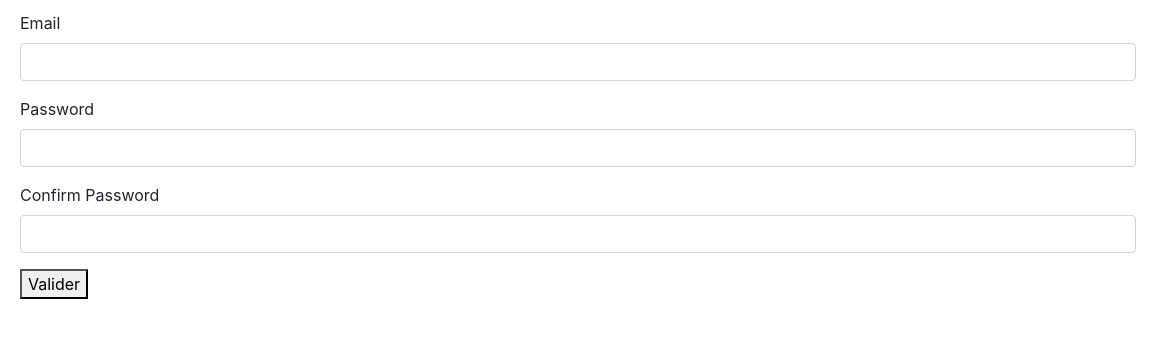
La saisie du mail est-elle valide
Expected: the text "email invalid" is not shown
Type "test.gmail.com" into the field labelled "Email" at [578, 62], box [20,43,1136,81]
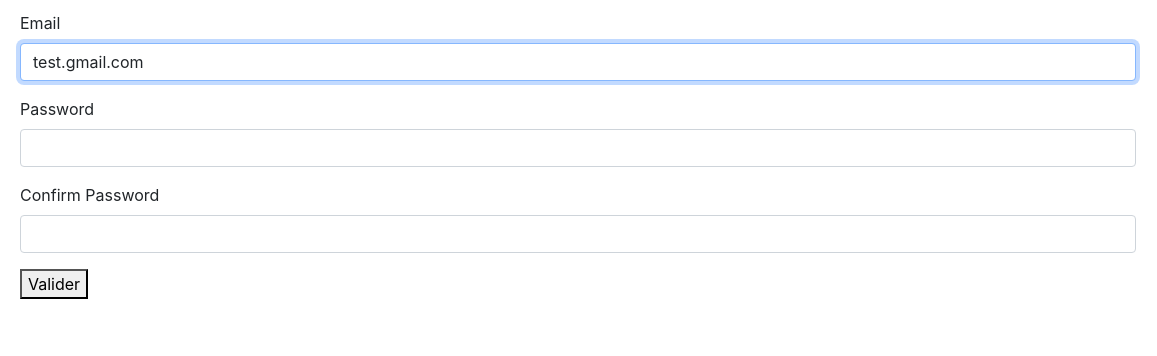
Type "test1234" into the password field labelled "Confirm Password" at [578, 234], box [20,215,1136,253]
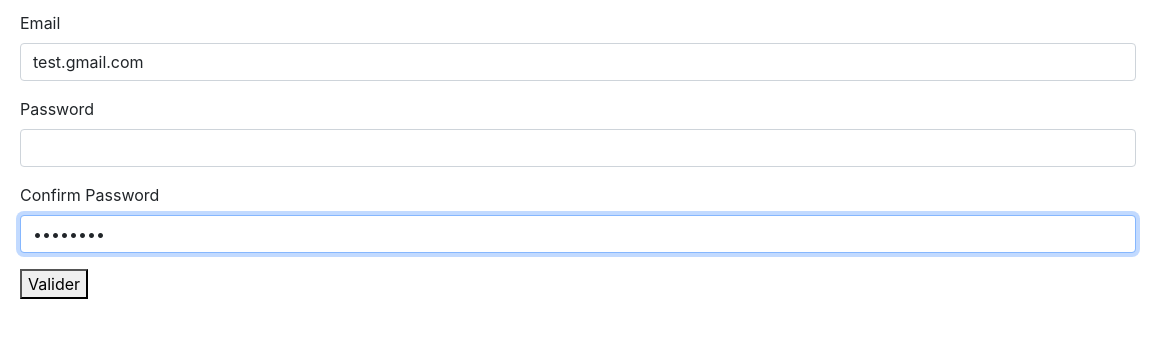
Click the button "Valider" at [54, 284], box [20,269,88,299]
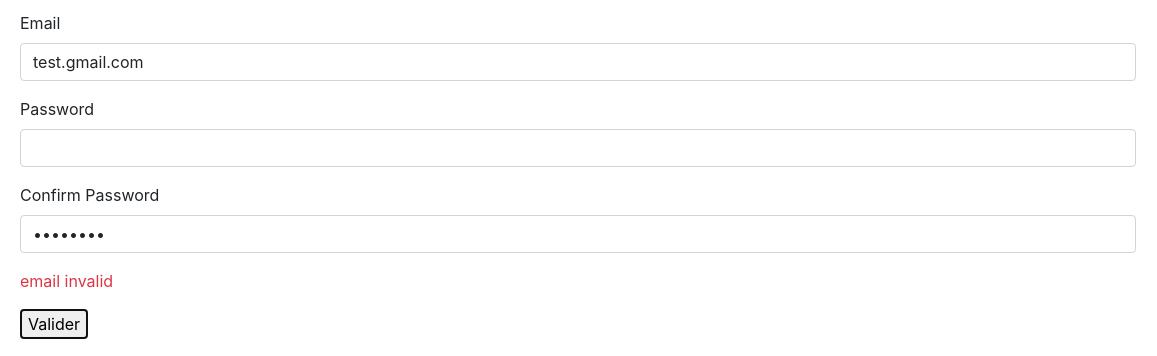
Now the text "email invalid" is shown, box [20,271,113,291]
